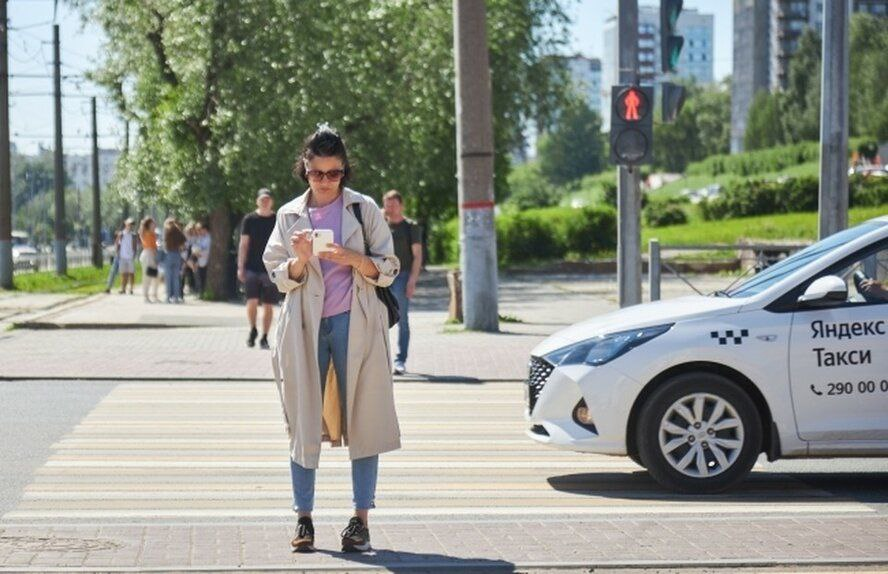sombie: (254, 120, 414, 565)
